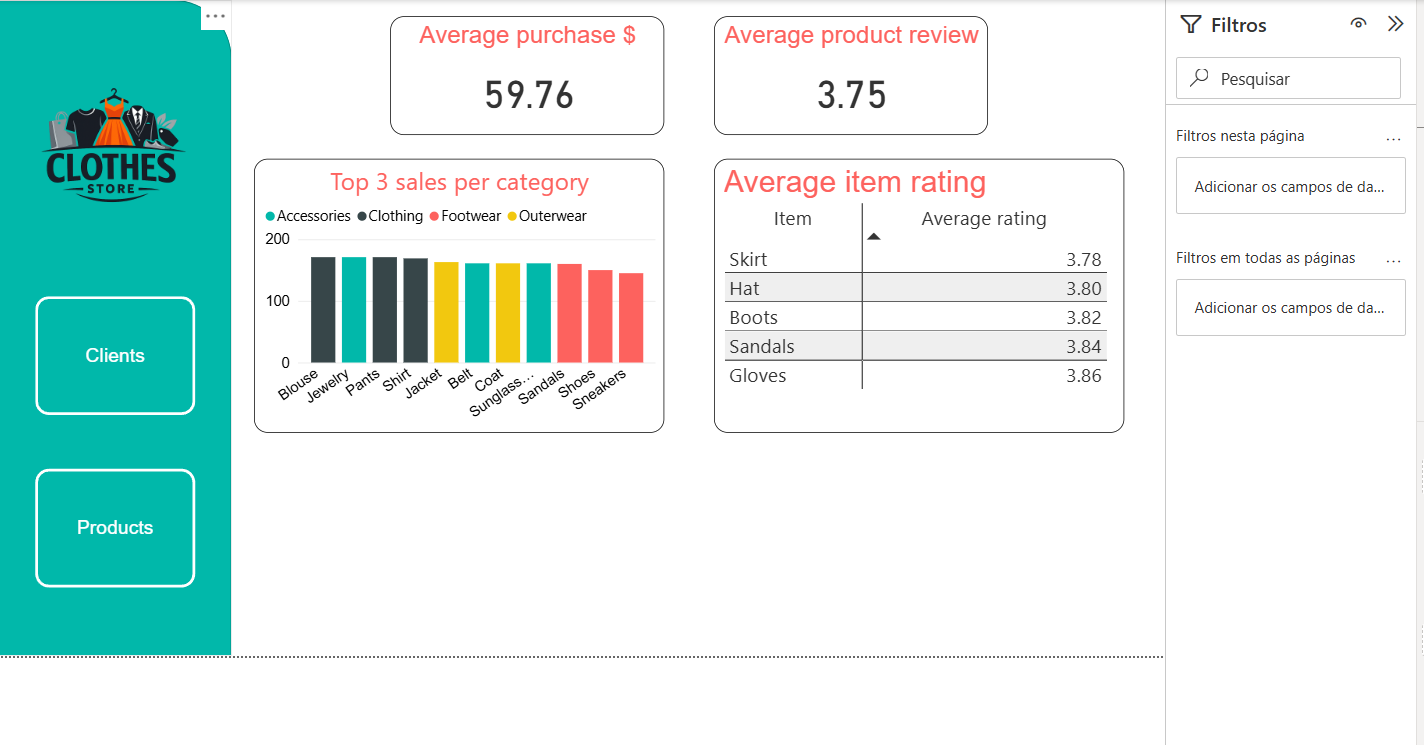

This screenshot's page, from the dashboard's own definition file:
{"tool":"powerbi","page":{"name":"Products","canvas":[1280,720],"ordinal":1},"visuals":[{"type":"shape","box":[0,0,255.2,720.4],"z":0},{"type":"actionButton","box":[39.8,325.2,175.6,130.4],"z":1},{"type":"actionButton","box":[39.8,514.6,175.6,130.4],"z":2},{"type":"image","box":[12.3,43.9,229.2,248.4],"z":3},{"type":"card","title":"Average purchase $","fields":{"Values":["Avg(customer.purchase_amount)"]},"box":[429.5,17.8,300.5,130.4],"z":4},{"type":"card","title":"Average product review","fields":{"Values":["Avg(customer.review_rating)"]},"box":[784.9,17.8,300.5,130.4],"z":5},{"type":"columnChart","title":"Top 3 sales per category","fields":{"Series":["top_3_items_category.category"],"Category":["top_3_items_category.item_purchased"],"Y":["Sum(top_3_items_category.total_orders)"]},"box":[279.9,174.3,450.1,300.5],"z":6},{"type":"tableEx","title":"Average item rating","fields":{"Values":["top_5_reviews.item_purchased","top_5_reviews.average_product_rating"]},"box":[784.9,174.3,450.1,300.5],"z":7}]}

Visuals, with their boxes on the page's 1280x720 design canvas (x1, y1, x2, y2). These are canvas units, not pixel positions in the 1424x745 screenshot, which may show the page scaled, cropped or inside an application window:
shape: <bbox>0, 0, 255, 720</bbox>
actionButton: <bbox>40, 325, 215, 456</bbox>
actionButton: <bbox>40, 515, 215, 645</bbox>
image: <bbox>12, 44, 242, 292</bbox>
"Average purchase $" card: <bbox>430, 18, 730, 148</bbox>
"Average product review" card: <bbox>785, 18, 1085, 148</bbox>
"Top 3 sales per category" columnChart: <bbox>280, 174, 730, 475</bbox>
"Average item rating" tableEx: <bbox>785, 174, 1235, 475</bbox>
